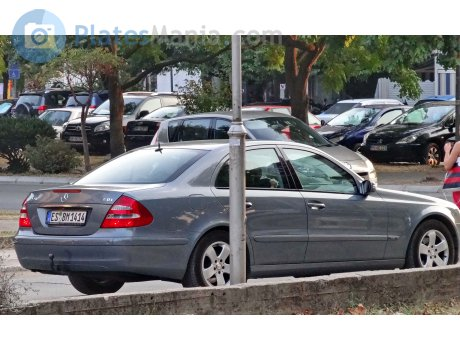License Plates: (45, 209, 91, 221)
